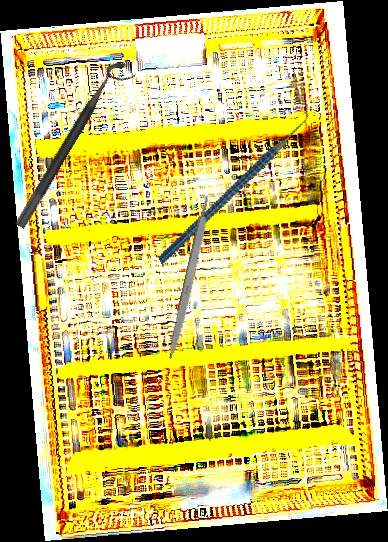Chopper: (124, 100, 344, 266)
Fixation Ring: (14, 56, 138, 238)
Scalpel Handle: (166, 194, 215, 361)
